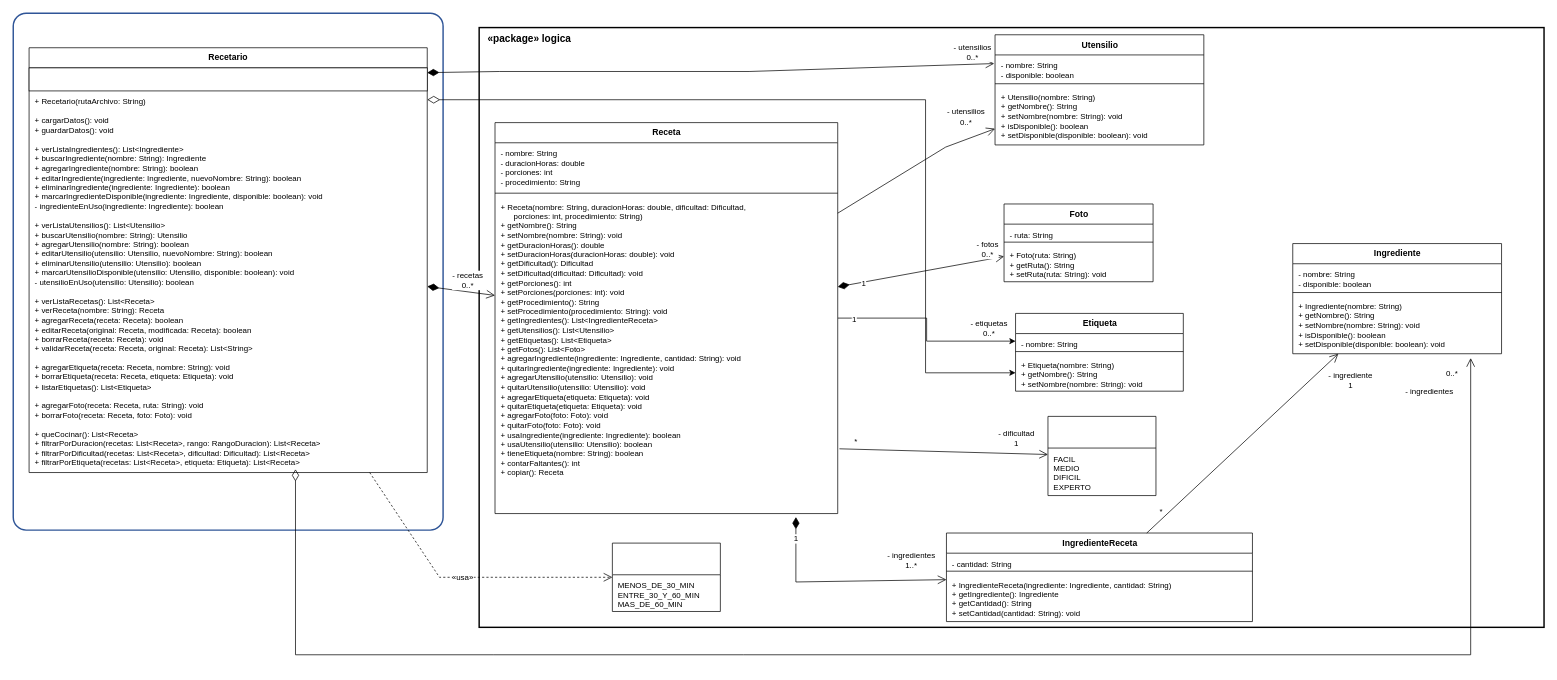
This 1557x680 diagram has some shape labels left out. Each missing label, with the box of its shape:
- rutaArchivo: String: (28, 67, 427, 91)
«enumeration» Dificultad: (1047, 416, 1156, 496)
«enumeration» RangoDuracion: (612, 542, 720, 611)
«package» control: (12, 12, 443, 530)
